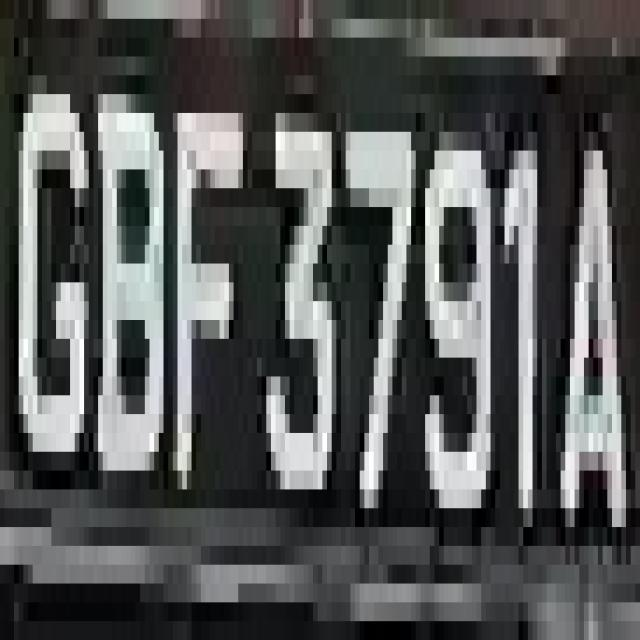1: (500, 94, 537, 584)
3: (262, 76, 332, 508)
7: (327, 75, 420, 546)
9: (416, 113, 495, 546)
A: (547, 132, 626, 584)
B: (89, 38, 168, 527)
F: (173, 19, 247, 546)
G: (14, 57, 98, 470)
